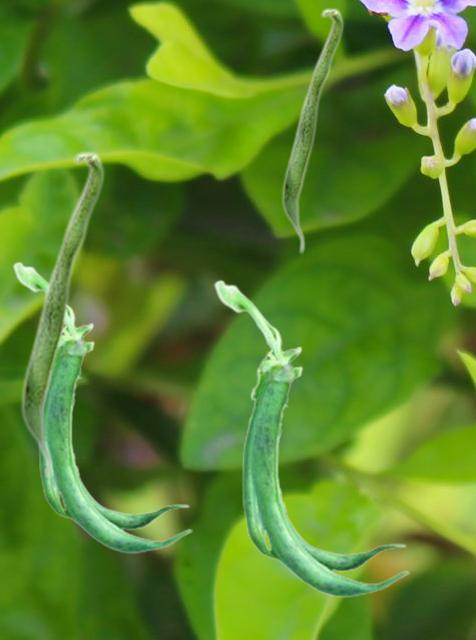french_bean: (213, 279, 408, 597), (12, 261, 191, 553), (20, 150, 104, 480), (281, 7, 343, 254)
